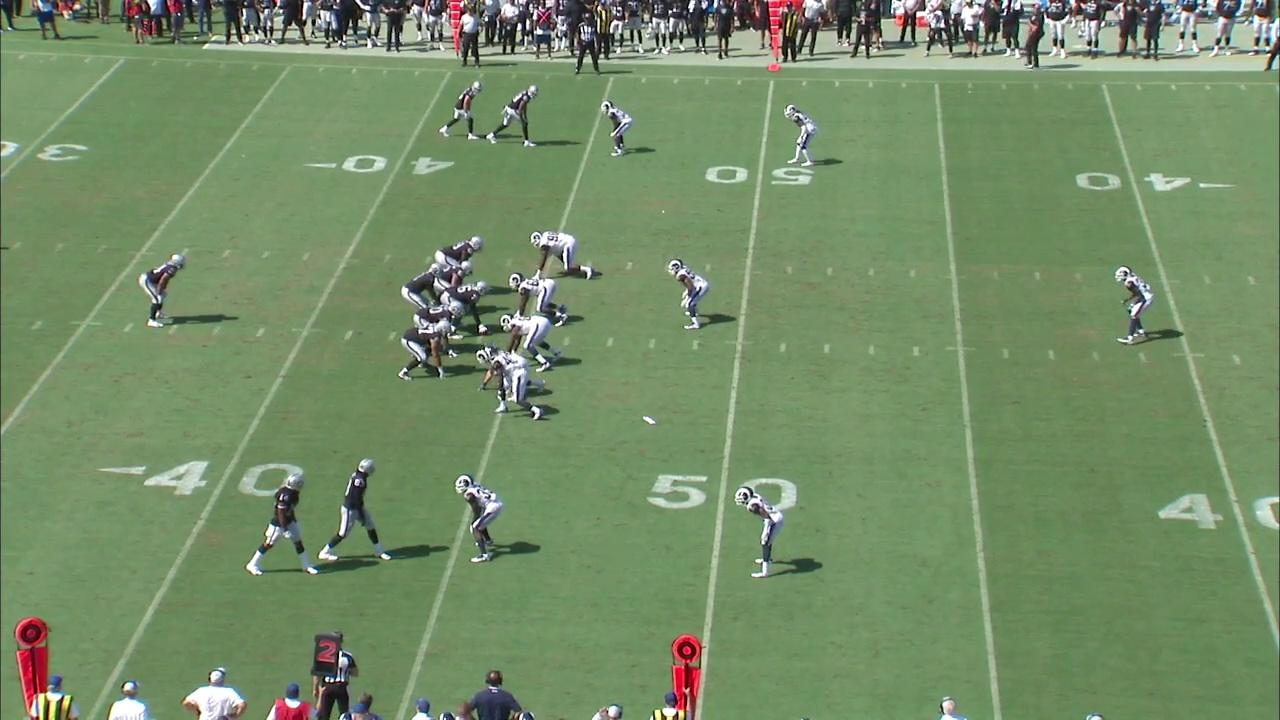defense: (736, 487, 788, 584), (479, 348, 547, 420), (455, 470, 501, 567), (666, 254, 714, 332), (499, 315, 562, 371), (507, 270, 568, 322), (1114, 265, 1152, 346), (531, 230, 593, 279), (784, 101, 820, 173), (598, 98, 635, 161)
oline: (395, 318, 451, 381), (438, 282, 487, 335), (415, 303, 462, 358), (432, 233, 488, 268), (437, 261, 477, 289)
qb: (401, 262, 438, 311)
ref: (575, 11, 604, 79)
skill: (319, 459, 399, 568), (239, 467, 315, 579), (138, 247, 187, 329), (491, 80, 538, 150), (439, 78, 484, 139)
